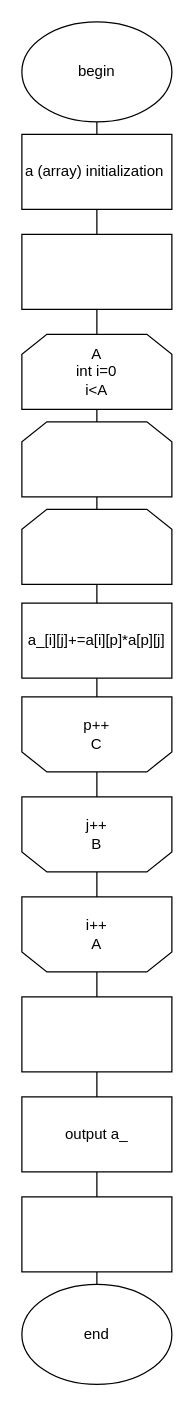
This 194x1406 diagram has some shape labels left out. The shapes that lost their labels are listed below. From the top down, each one's centre as x and y in pixels, then its label:
the point at 96,271: a_ (array)
the point at 96,459: B int j=0 j<A
the point at 96,546: C int p=0 p<A
the point at 96,1034: delete a
the point at 96,1234: delete a_
